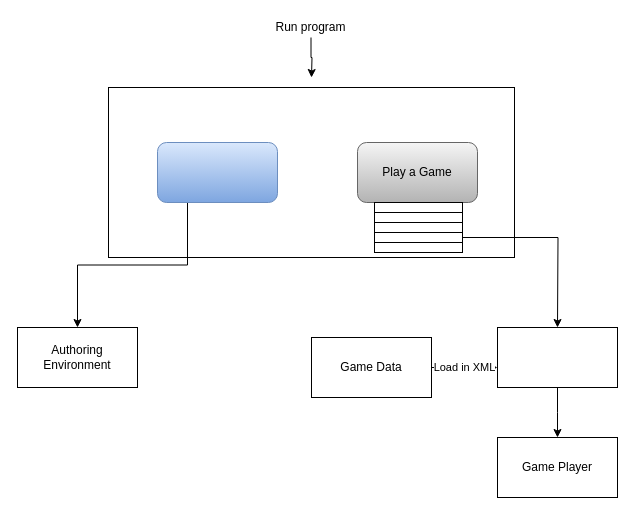
This 635x515 diagram has some shape labels left out. The shapes that lost their labels are listed below. From the top down, each one's centre as x and y in pixels, then its label:
the point at 217,172: Create a Game
the point at 557,357: Game Editor
